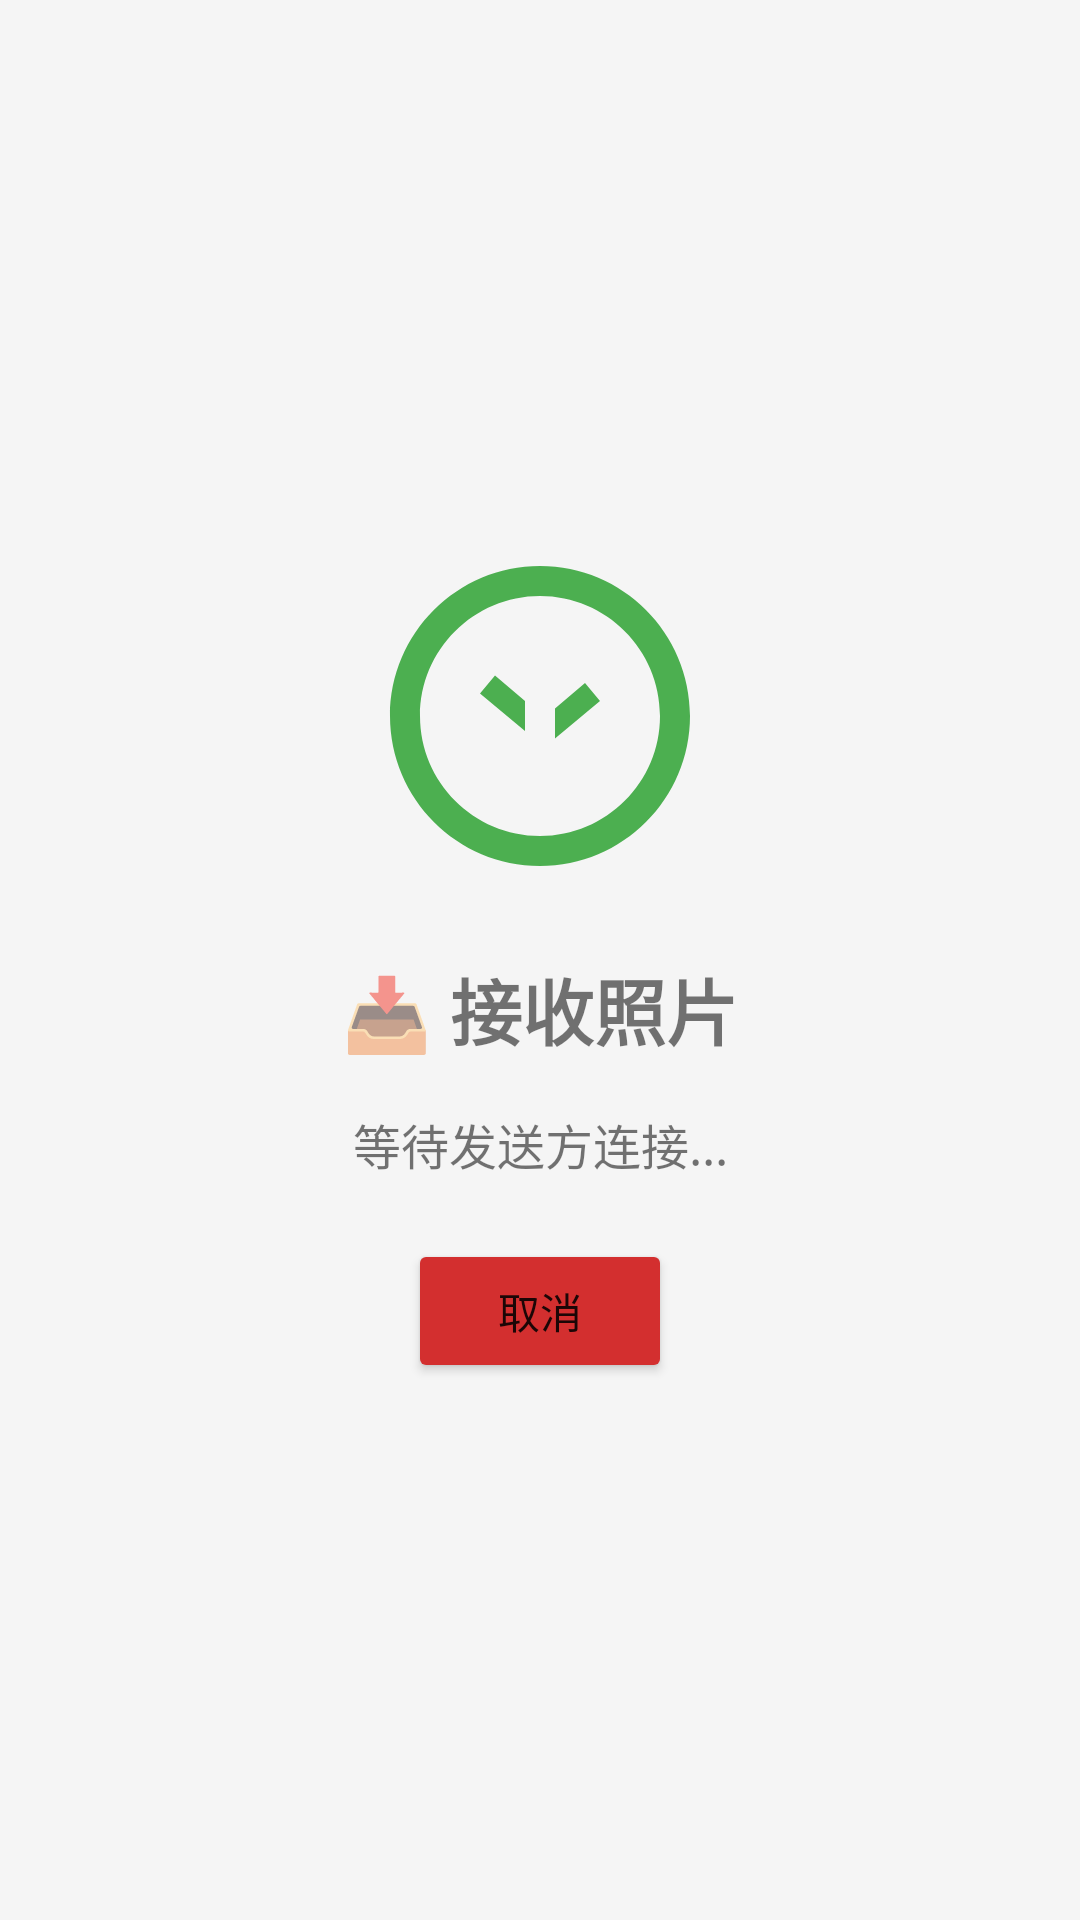

Point at icon controls on the screen. Image size 1080*1920, points as point (x, y).
nfc receive: point (540, 716)
